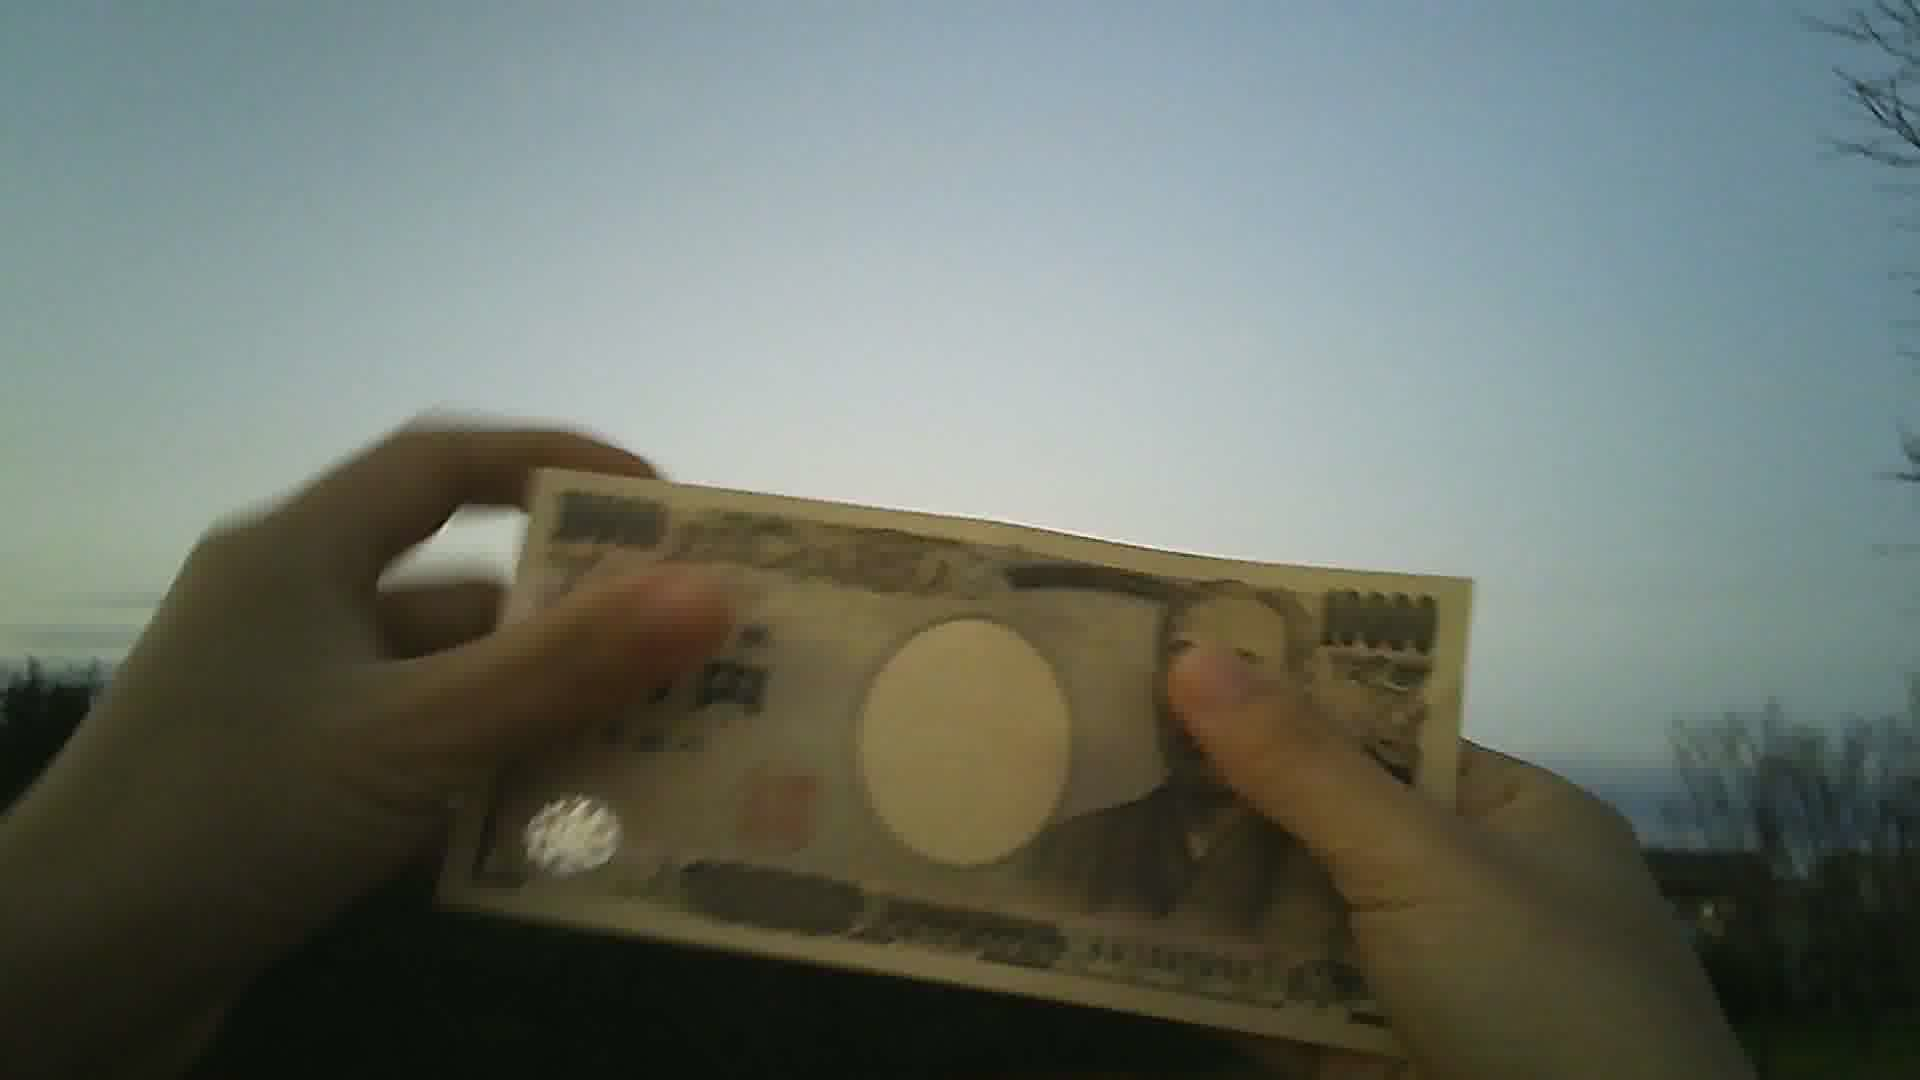10,000 Yen: (436, 455, 1491, 1069)
